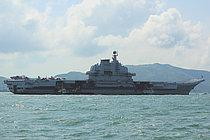MIL_Ship: (2, 49, 205, 96)
